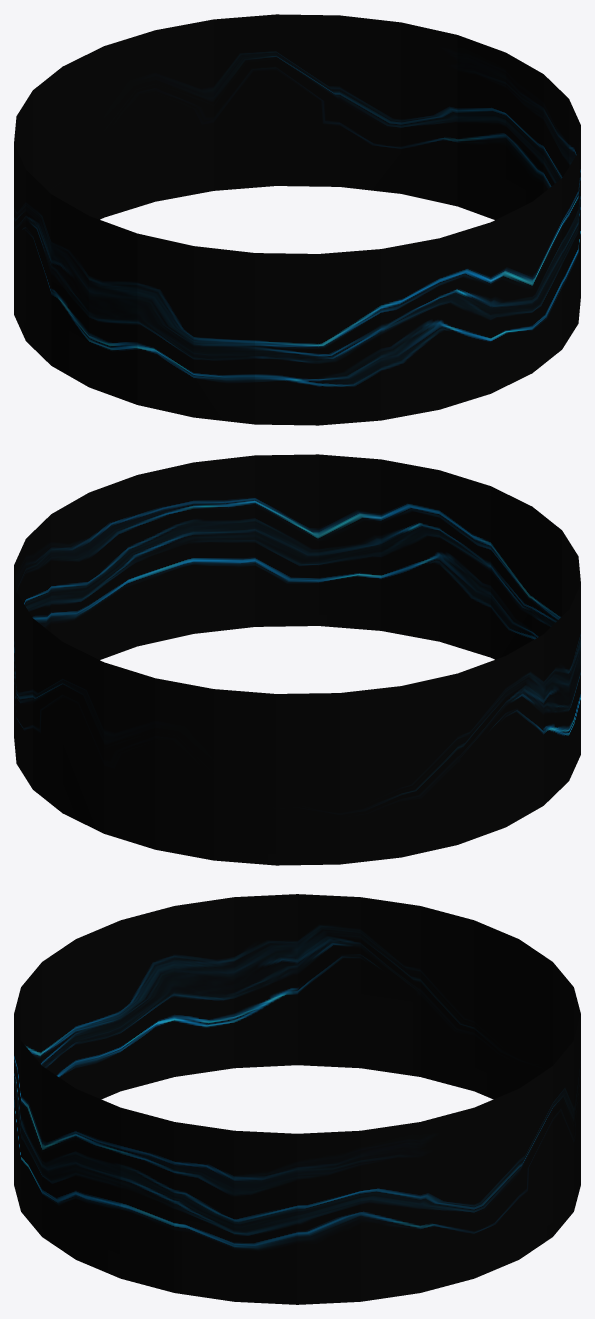
File: buff_huan.FBX
3 renders of one model, top to bottom at view 1: azimuth 30°, elevation 25°; view 2: azimuth 150°, elevation 25°; view 3: azimuth 270°, elevation 25°, orthographic.
Parts seen in each view (by area): view 1: niuqu_01; view 2: niuqu_01; view 3: niuqu_01.
Boxes of the visible parts, x1,y1,x2,y2 form: niuqu_01: [14, 14, 580, 425]; niuqu_01: [14, 454, 580, 865]; niuqu_01: [14, 894, 580, 1304].
Size of the model in its own units: 65.72 by 21.88 by 65.7.
1 material, 1 textured.
